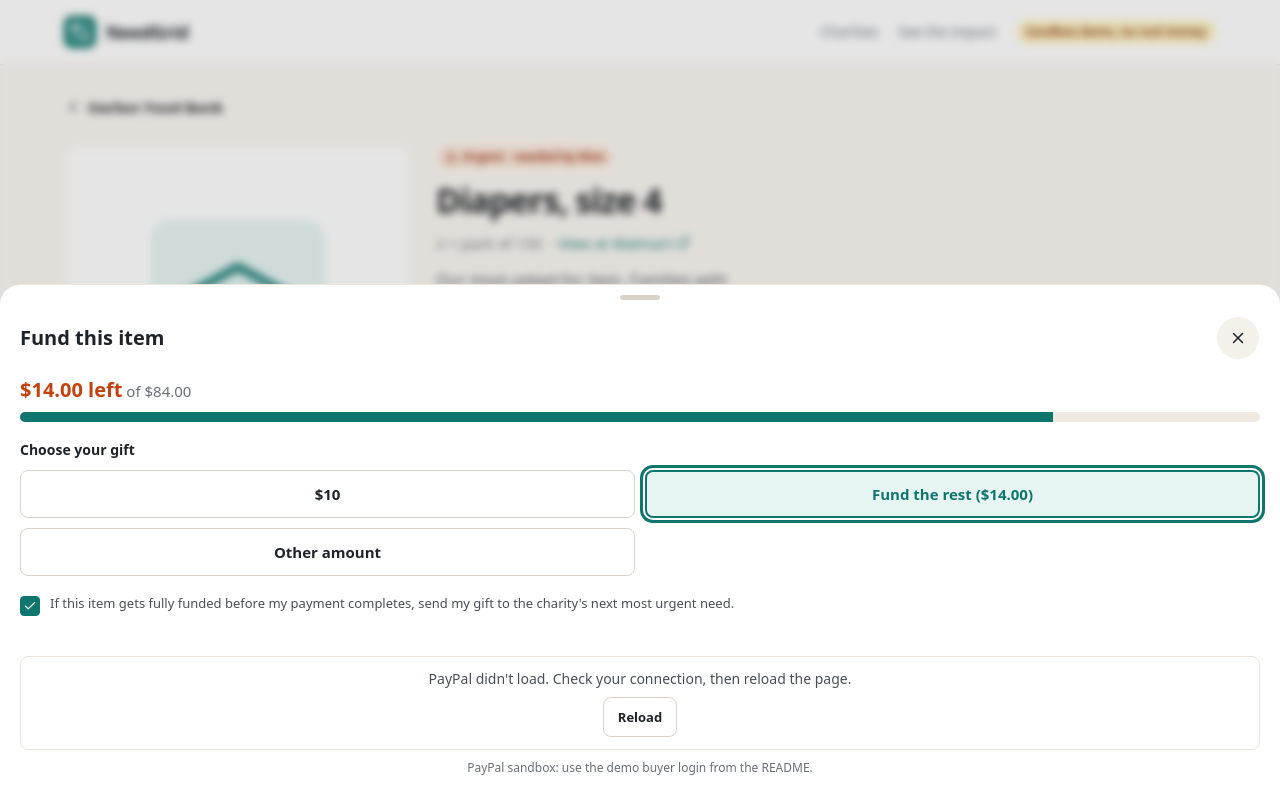
Need page /o/:slug/n/:needId › on a phone, ?donate=1 opens the bottom sheet with the picker focused; Esc closes it
The image size is (1280, 800).
Press Escape
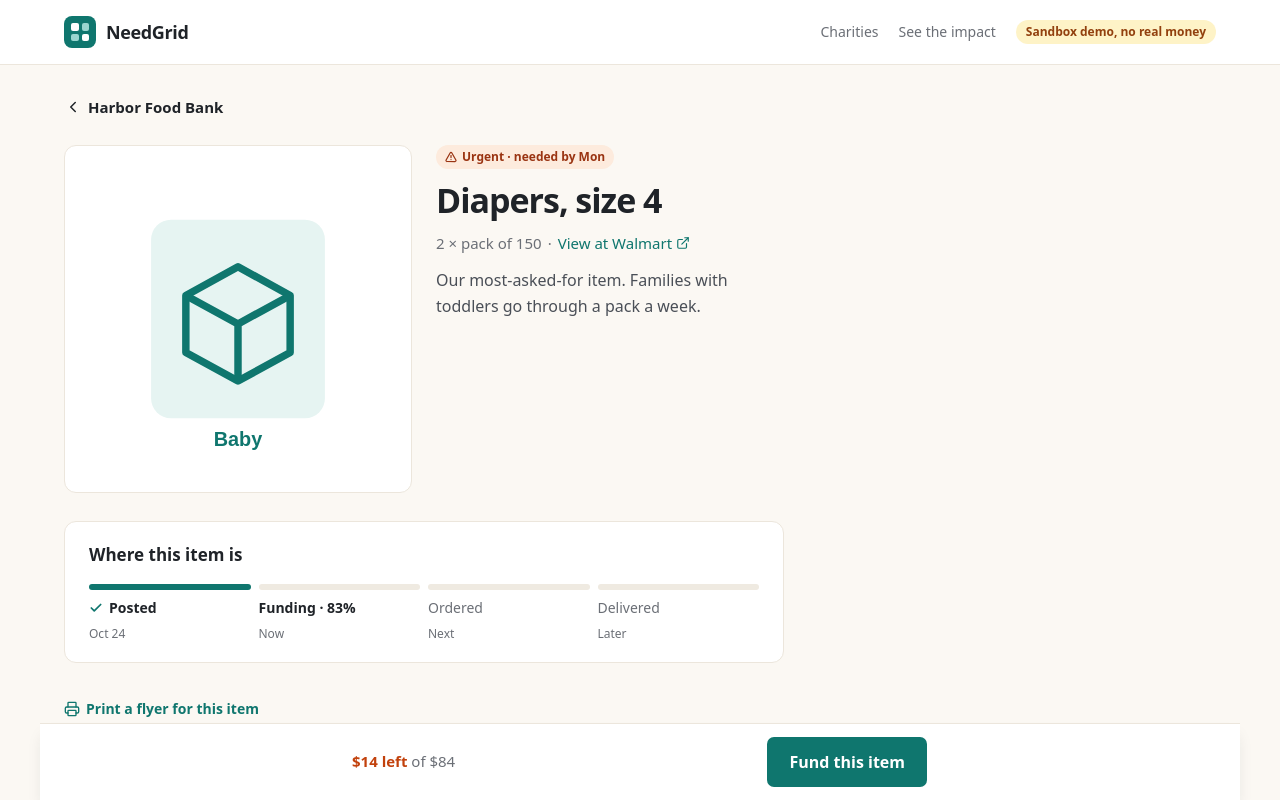
Check: the dialog is gone
Click the button "Fund this item" at coordinates (847, 762), box [766, 736, 928, 788]
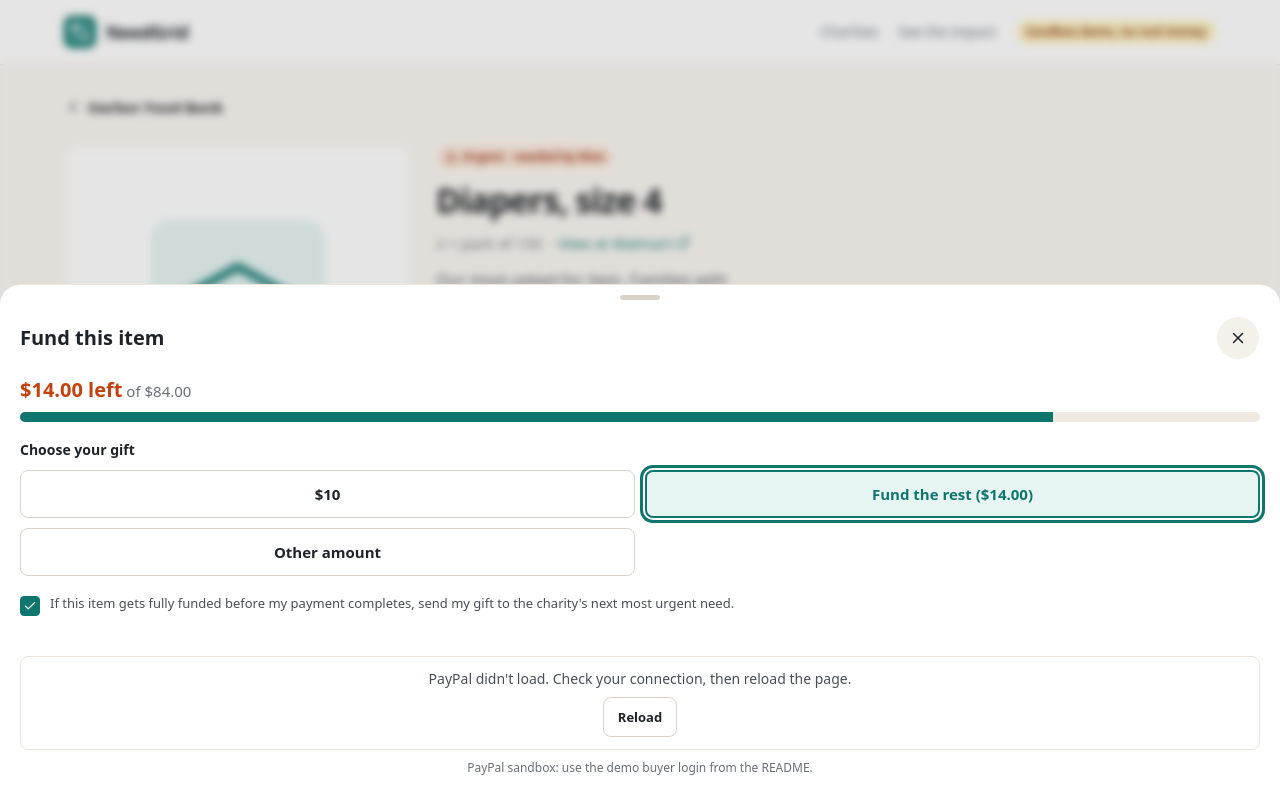
Check: the dialog "Fund this item" is shown
